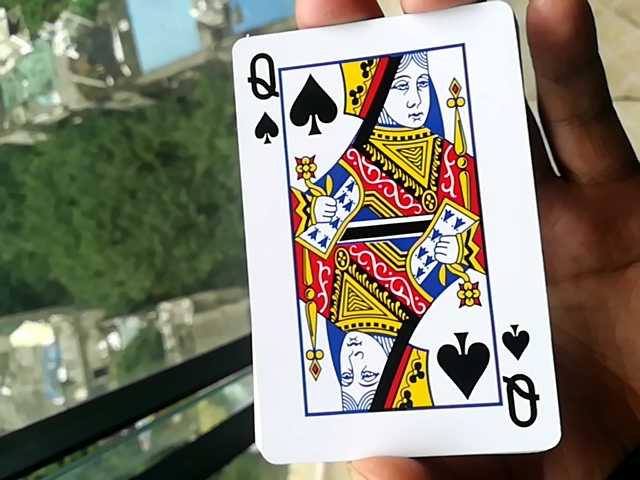ht q: (224, 15, 560, 469)
